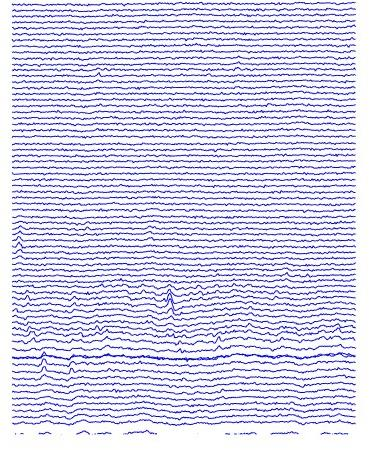defect: (171, 333, 226, 359), (20, 283, 39, 344), (163, 285, 182, 319), (12, 219, 25, 265), (37, 349, 52, 383), (64, 352, 78, 378)
